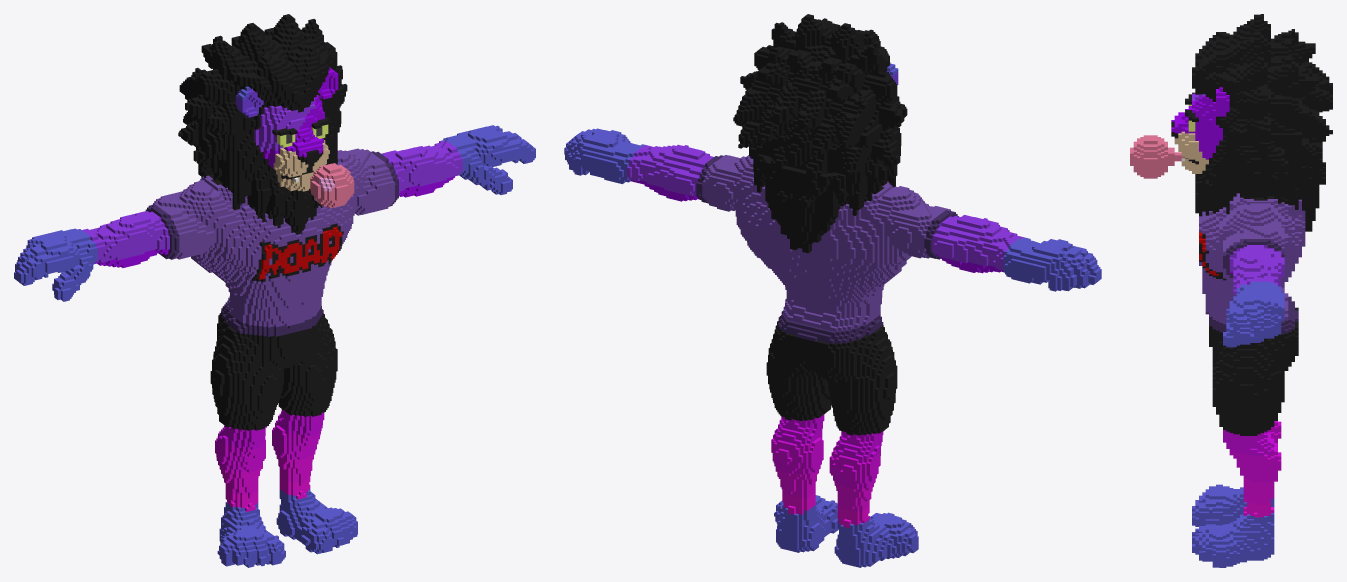
3 renders of one model, left to right at view 1: azimuth 30°, elevation 25°; view 2: azimuth 150°, elevation 25°; view 3: azimuth 270°, elevation 25°, orthographic. The views are drawn at different scales.
Visible parts, largest first — view 1: bubble_gum; view 2: bubble_gum; view 3: bubble_gum.
Part boxes in pixels (box(x1,y1,x2,y2)): bubble_gum: box(14, 14, 535, 567); bubble_gum: box(564, 14, 1101, 567); bubble_gum: box(1130, 14, 1332, 567).
Size of the model in its own units: 17.2 by 16.5 by 5.9.
5 materials, 5 textured.
